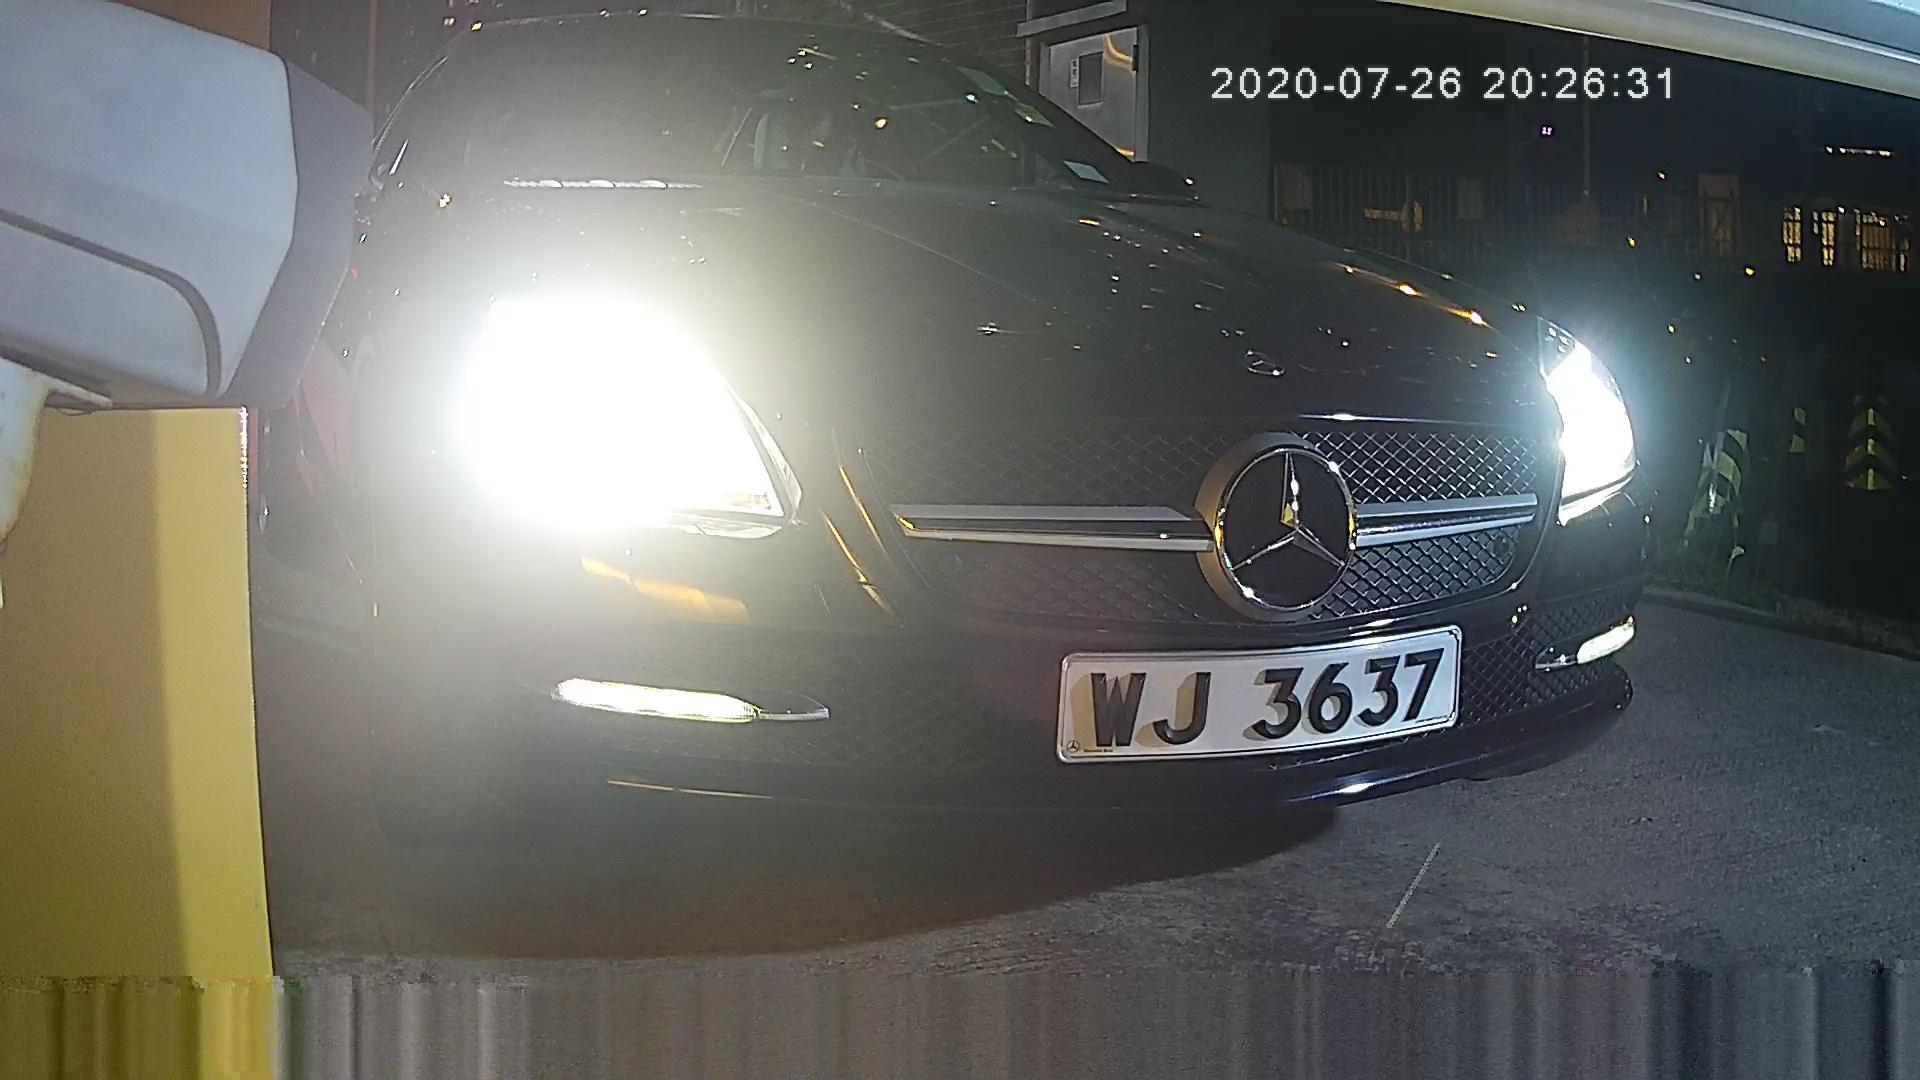License Plate: (1046, 618, 1475, 782)
